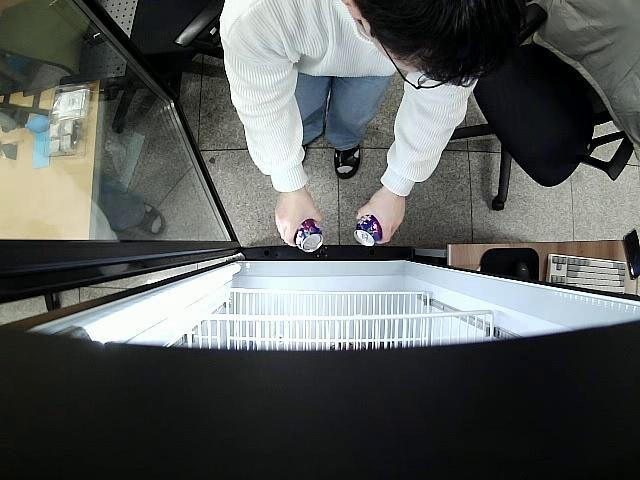14_welchsGrape: (296, 215, 323, 255), (353, 212, 382, 249)
